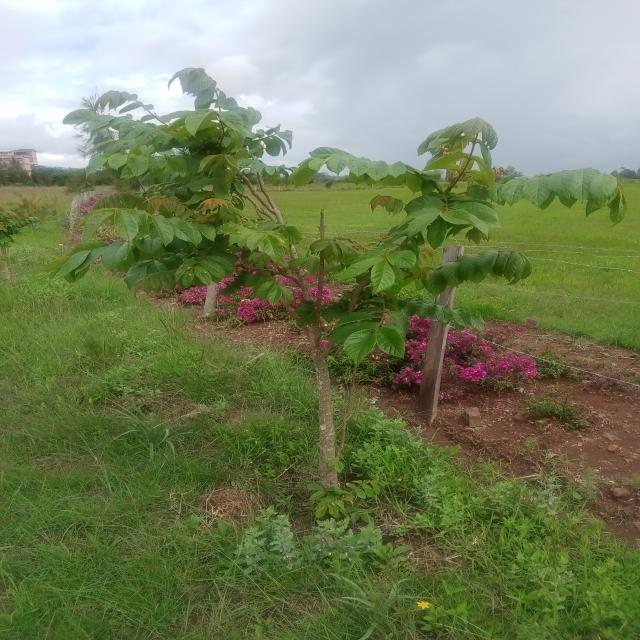Polyscias Kikuyensis: (57, 75, 628, 488)
